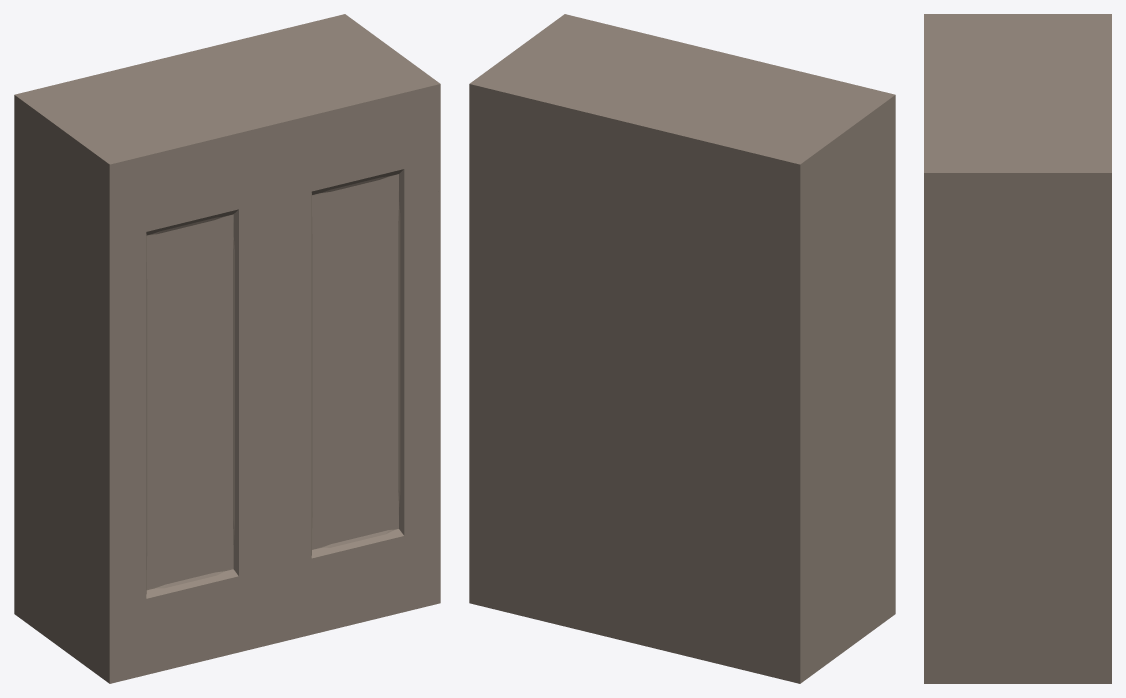
The model's file is Wall-Cabinet-18-High-12-Deep_std_001_H36in_onlyH.glb.
3 renders of one model, left to right at view 1: azimuth 30°, elevation 25°; view 2: azimuth 150°, elevation 25°; view 3: azimuth 270°, elevation 25°, orthographic.
Parts seen in each view (by area): view 1: Wall-Cabinet-18-High-12-Deep.std.001_H36in_onlyH; view 2: Wall-Cabinet-18-High-12-Deep.std.001_H36in_onlyH; view 3: Wall-Cabinet-18-High-12-Deep.std.001_H36in_onlyH.
Boxes of the visible parts, x1,y1,x2,y2 form: Wall-Cabinet-18-High-12-Deep.std.001_H36in_onlyH: (14,14,440,683); Wall-Cabinet-18-High-12-Deep.std.001_H36in_onlyH: (469,14,895,683); Wall-Cabinet-18-High-12-Deep.std.001_H36in_onlyH: (924,14,1111,683).
Bounding box in the file's own units: 0.6096 × 0.9144 × 0.3048.
